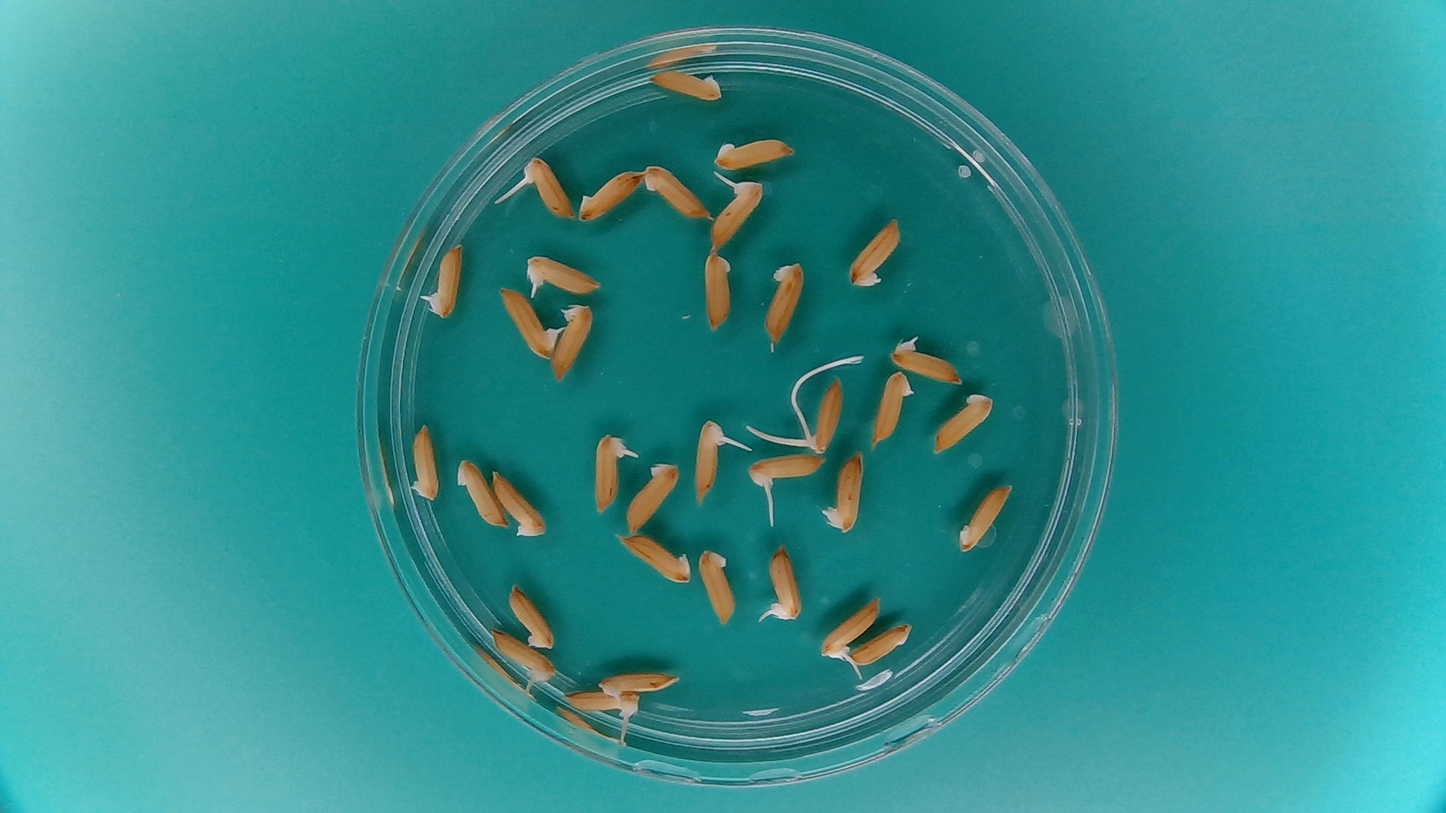no: (610, 531, 694, 588), (929, 388, 999, 456), (845, 212, 905, 291), (621, 462, 682, 537), (639, 160, 712, 222), (819, 448, 867, 537), (455, 453, 511, 528), (958, 483, 1015, 555), (867, 368, 916, 450), (575, 166, 644, 224), (492, 470, 549, 539), (696, 545, 741, 629), (550, 305, 596, 383), (764, 260, 807, 339), (700, 246, 737, 335), (508, 585, 557, 650), (647, 65, 726, 104), (710, 137, 799, 170), (404, 424, 441, 501), (850, 623, 914, 664)
yes: (501, 288, 558, 358), (690, 414, 732, 508), (711, 177, 765, 250), (520, 158, 578, 223), (820, 599, 880, 660), (586, 434, 627, 516), (488, 634, 553, 685), (526, 254, 601, 298), (746, 452, 830, 491), (424, 244, 465, 319), (891, 340, 959, 384), (804, 376, 843, 449), (760, 547, 799, 620), (563, 690, 642, 726), (598, 668, 684, 698)
